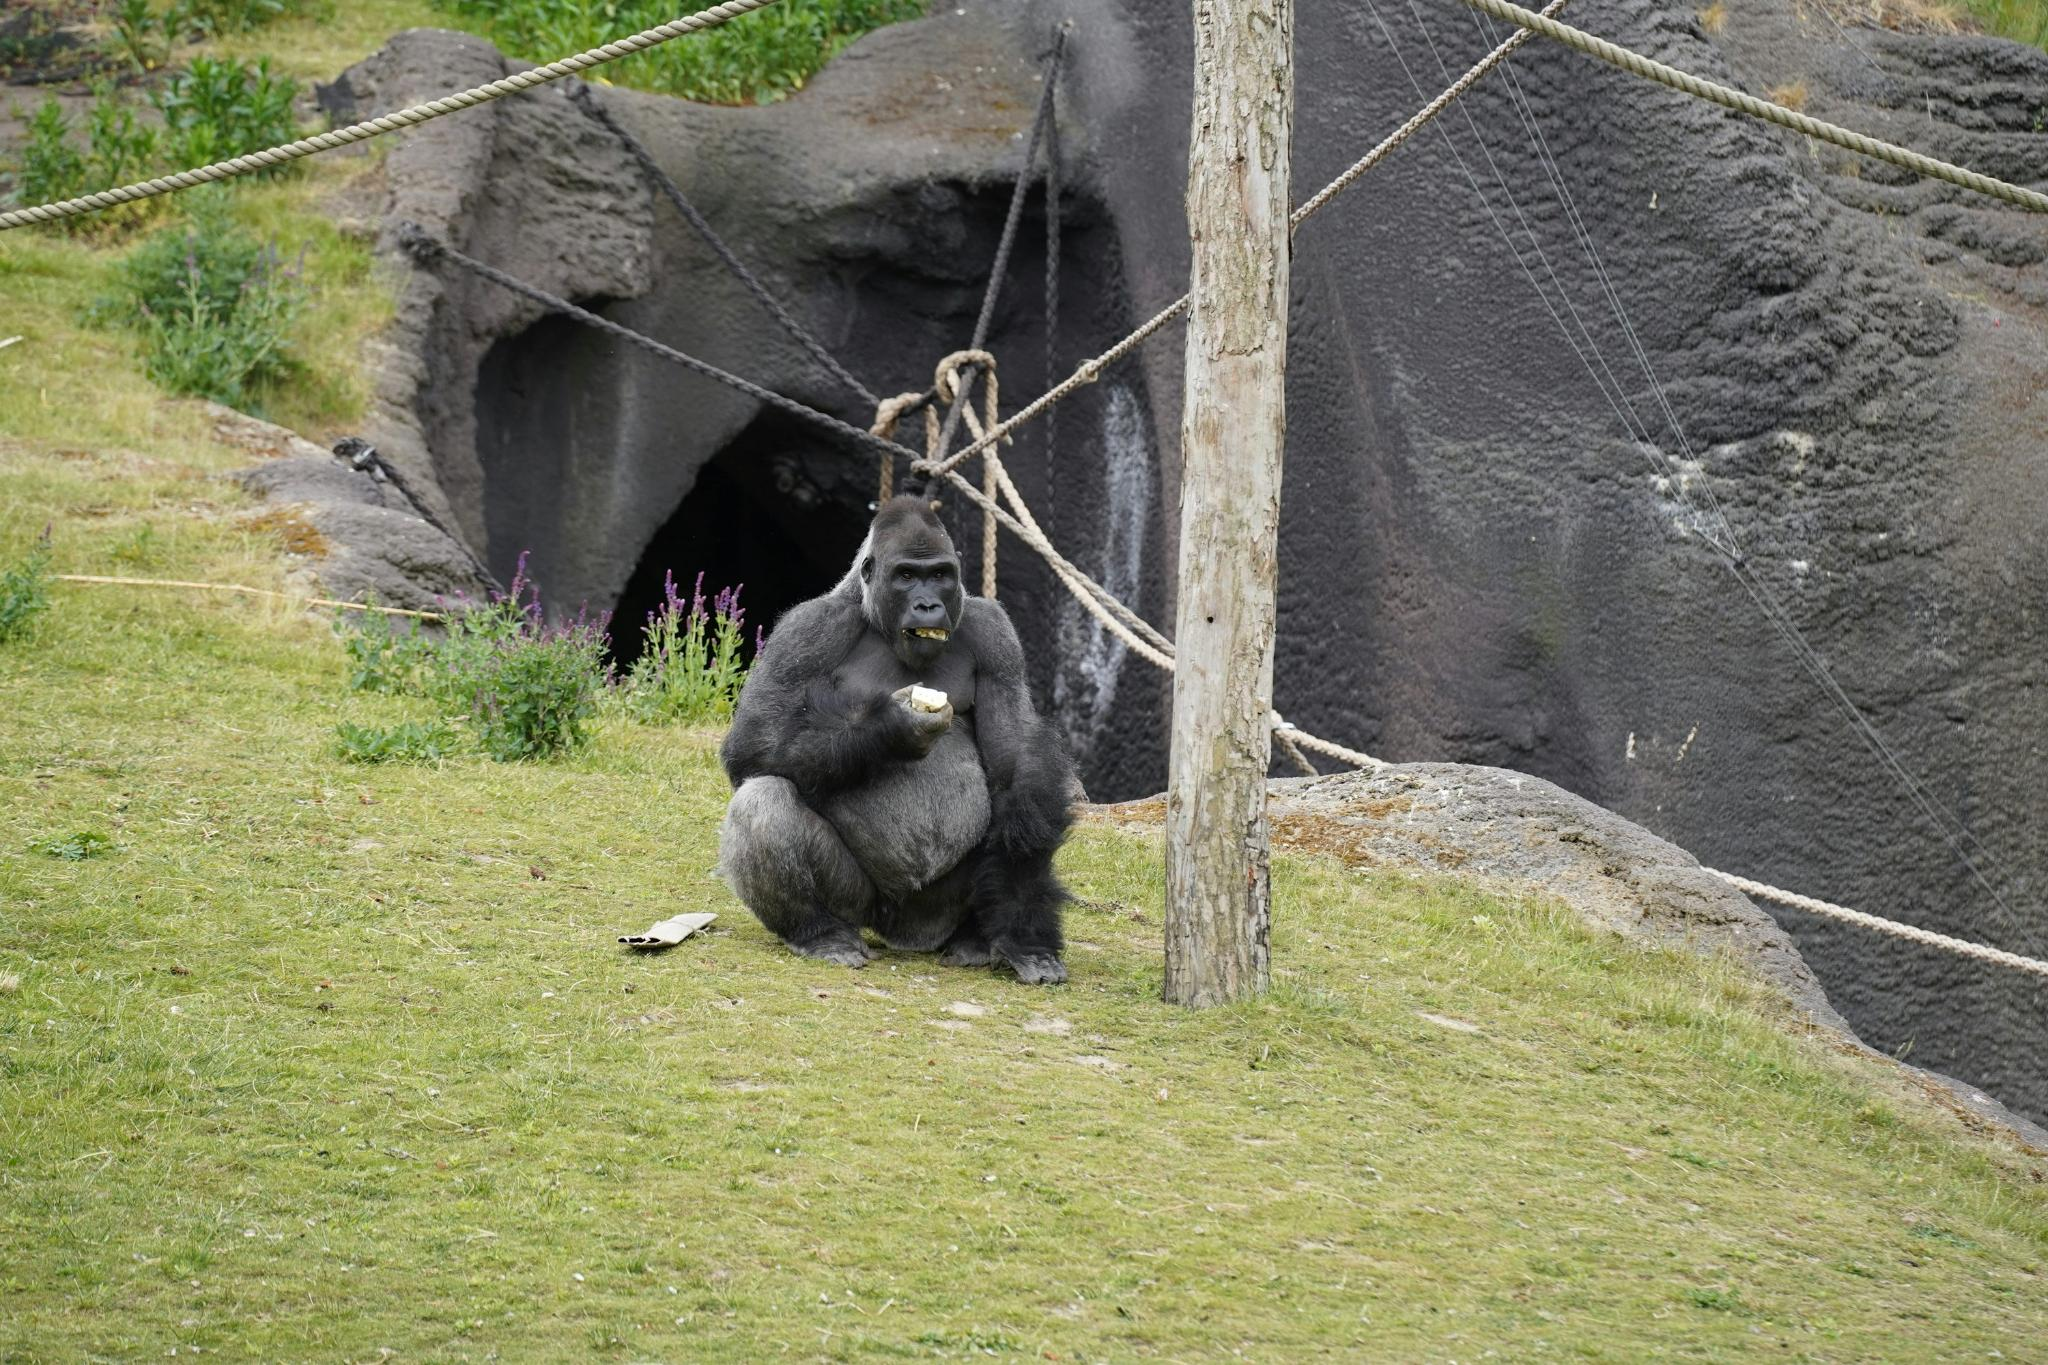gorille_Autres: (682, 424, 1186, 983)
